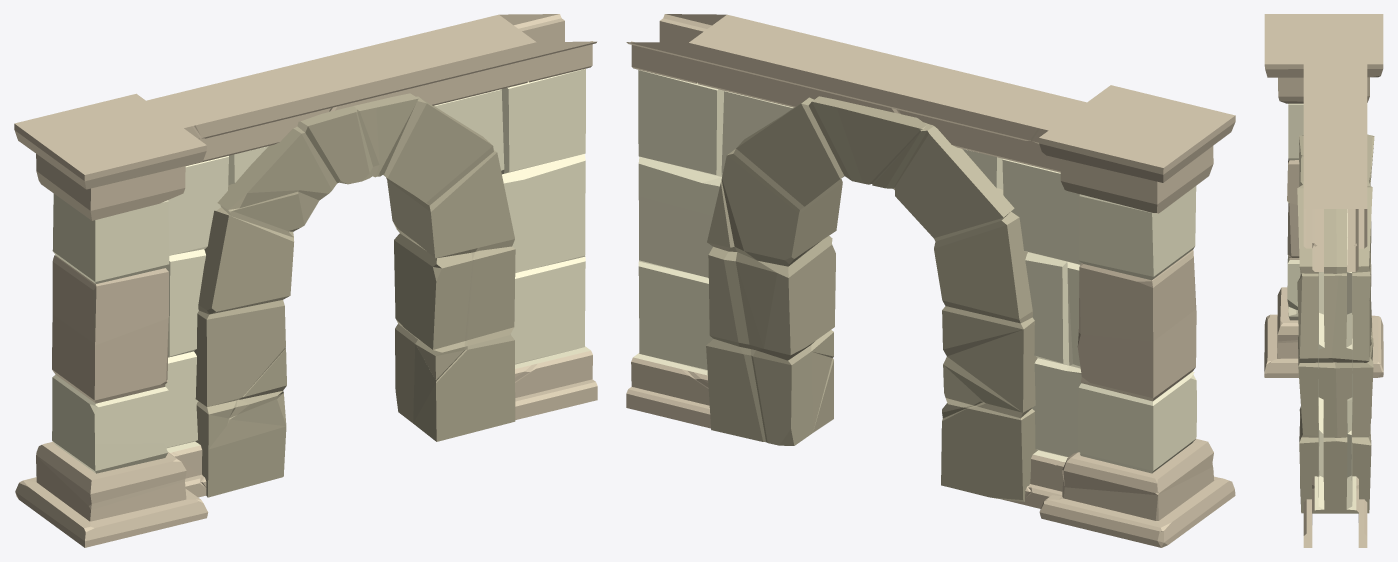
The model's file is SM_SM_Dooe_01.002.fbx.
3 renders of one model, left to right at view 1: azimuth 30°, elevation 25°; view 2: azimuth 150°, elevation 25°; view 3: azimuth 270°, elevation 25°, orthographic. The views are drawn at different scales.
Visible parts, largest first — view 1: SM_Dooe_01.002; view 2: SM_Dooe_01.002; view 3: SM_Dooe_01.002.
Part boxes in pixels (left/top/right/bottom): SM_Dooe_01.002: left=14, top=14, right=597, bottom=547; SM_Dooe_01.002: left=626, top=14, right=1235, bottom=547; SM_Dooe_01.002: left=1264, top=14, right=1383, bottom=547.
Size of the model in its own units: 452 by 301 by 104.
